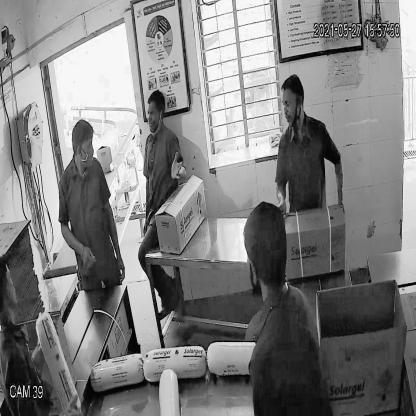no_goggles: (278, 94, 303, 116)
